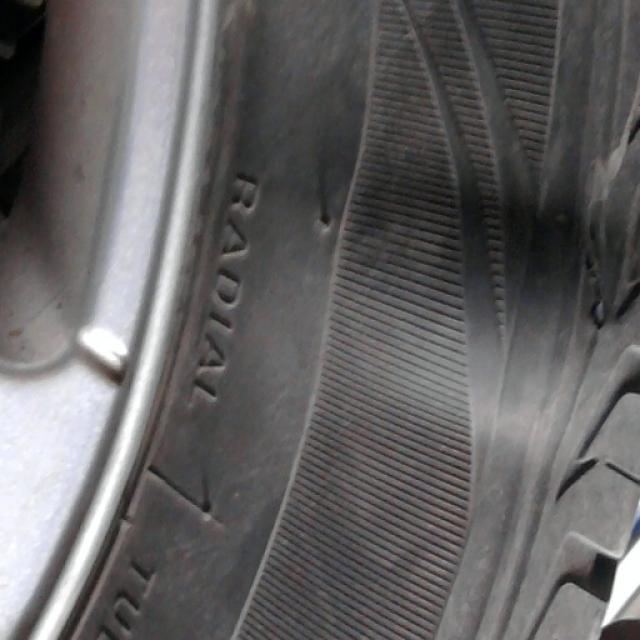Bulge: (320, 221, 555, 421)
